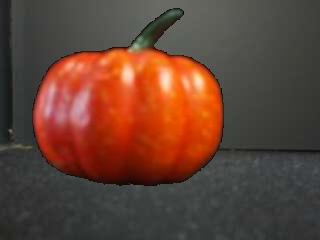Pumpkin: (32, 7, 224, 185)
